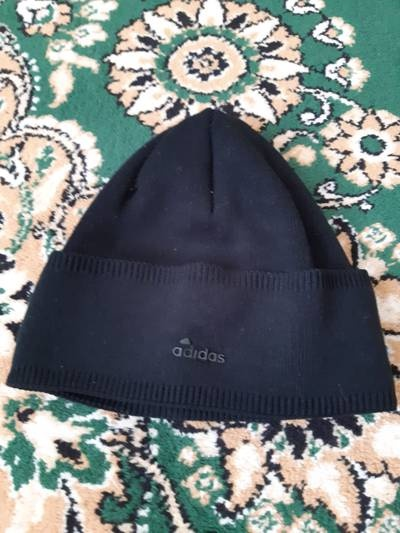Hat: (16, 95, 384, 435)
